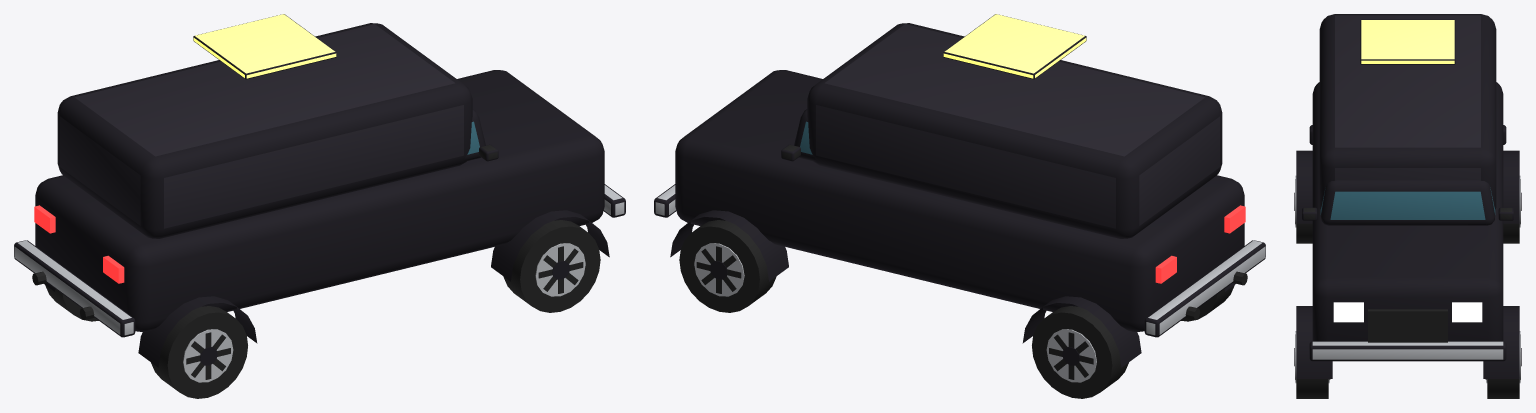
File: halo-hearse.glb
The picture shows the model from 3 angles, left to right: view 1: azimuth 30°, elevation 25°; view 2: azimuth 150°, elevation 25°; view 3: azimuth 270°, elevation 25°; orthographic projection. The views are drawn at different scales.
Parts seen in each view (by area): view 1: body, wheel_FR, wheel_RR; view 2: body, wheel_FL, wheel_RL; view 3: body, wheel_FL, wheel_FR, wheel_RL, wheel_RR.
Boxes of the visible parts, x1,y1,x2,y2 form: body: [14, 14, 625, 367]; wheel_FR: [503, 220, 600, 312]; wheel_RR: [151, 306, 247, 398]; body: [654, 14, 1265, 367]; wheel_FL: [679, 220, 776, 312]; wheel_RL: [1032, 306, 1128, 398]; body: [1296, 14, 1519, 378]; wheel_FL: [1485, 331, 1521, 398]; wheel_FR: [1294, 331, 1330, 398]; wheel_RL: [1503, 175, 1521, 243]; wheel_RR: [1294, 175, 1312, 243].
Size of the model in its own units: 5.61 by 2.92 by 2.38.
